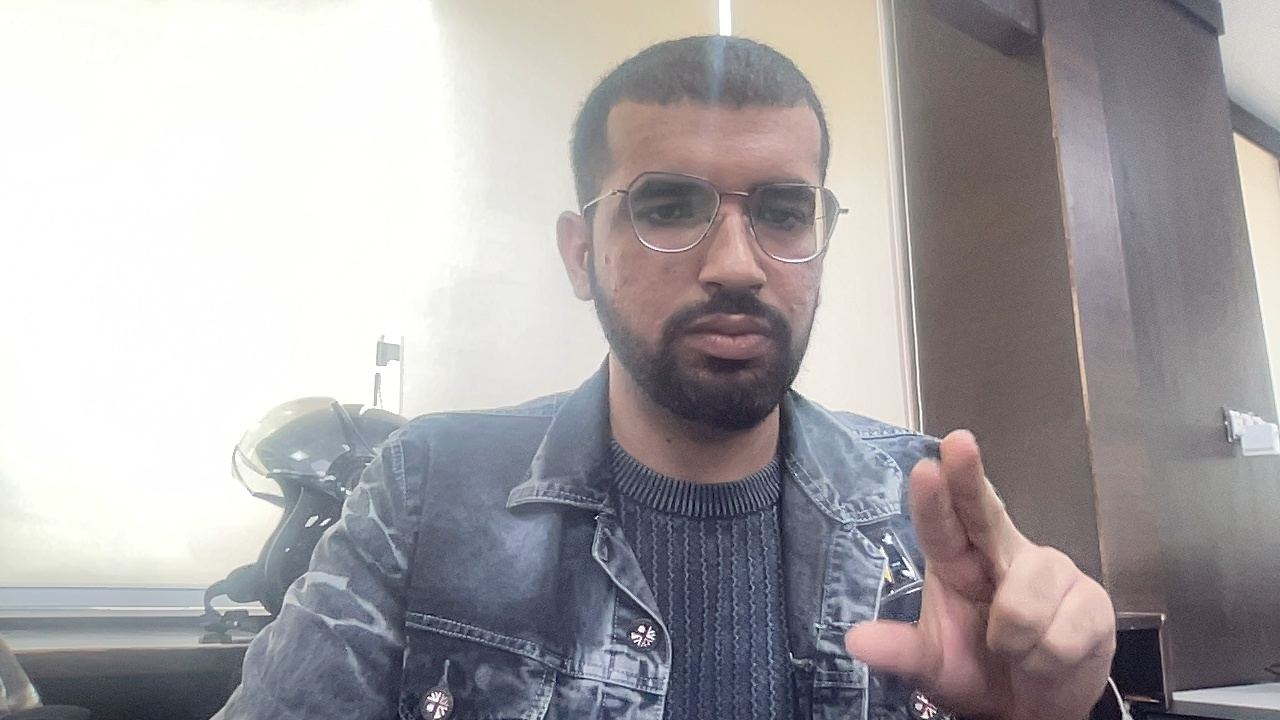No: (782, 415, 1141, 720)
